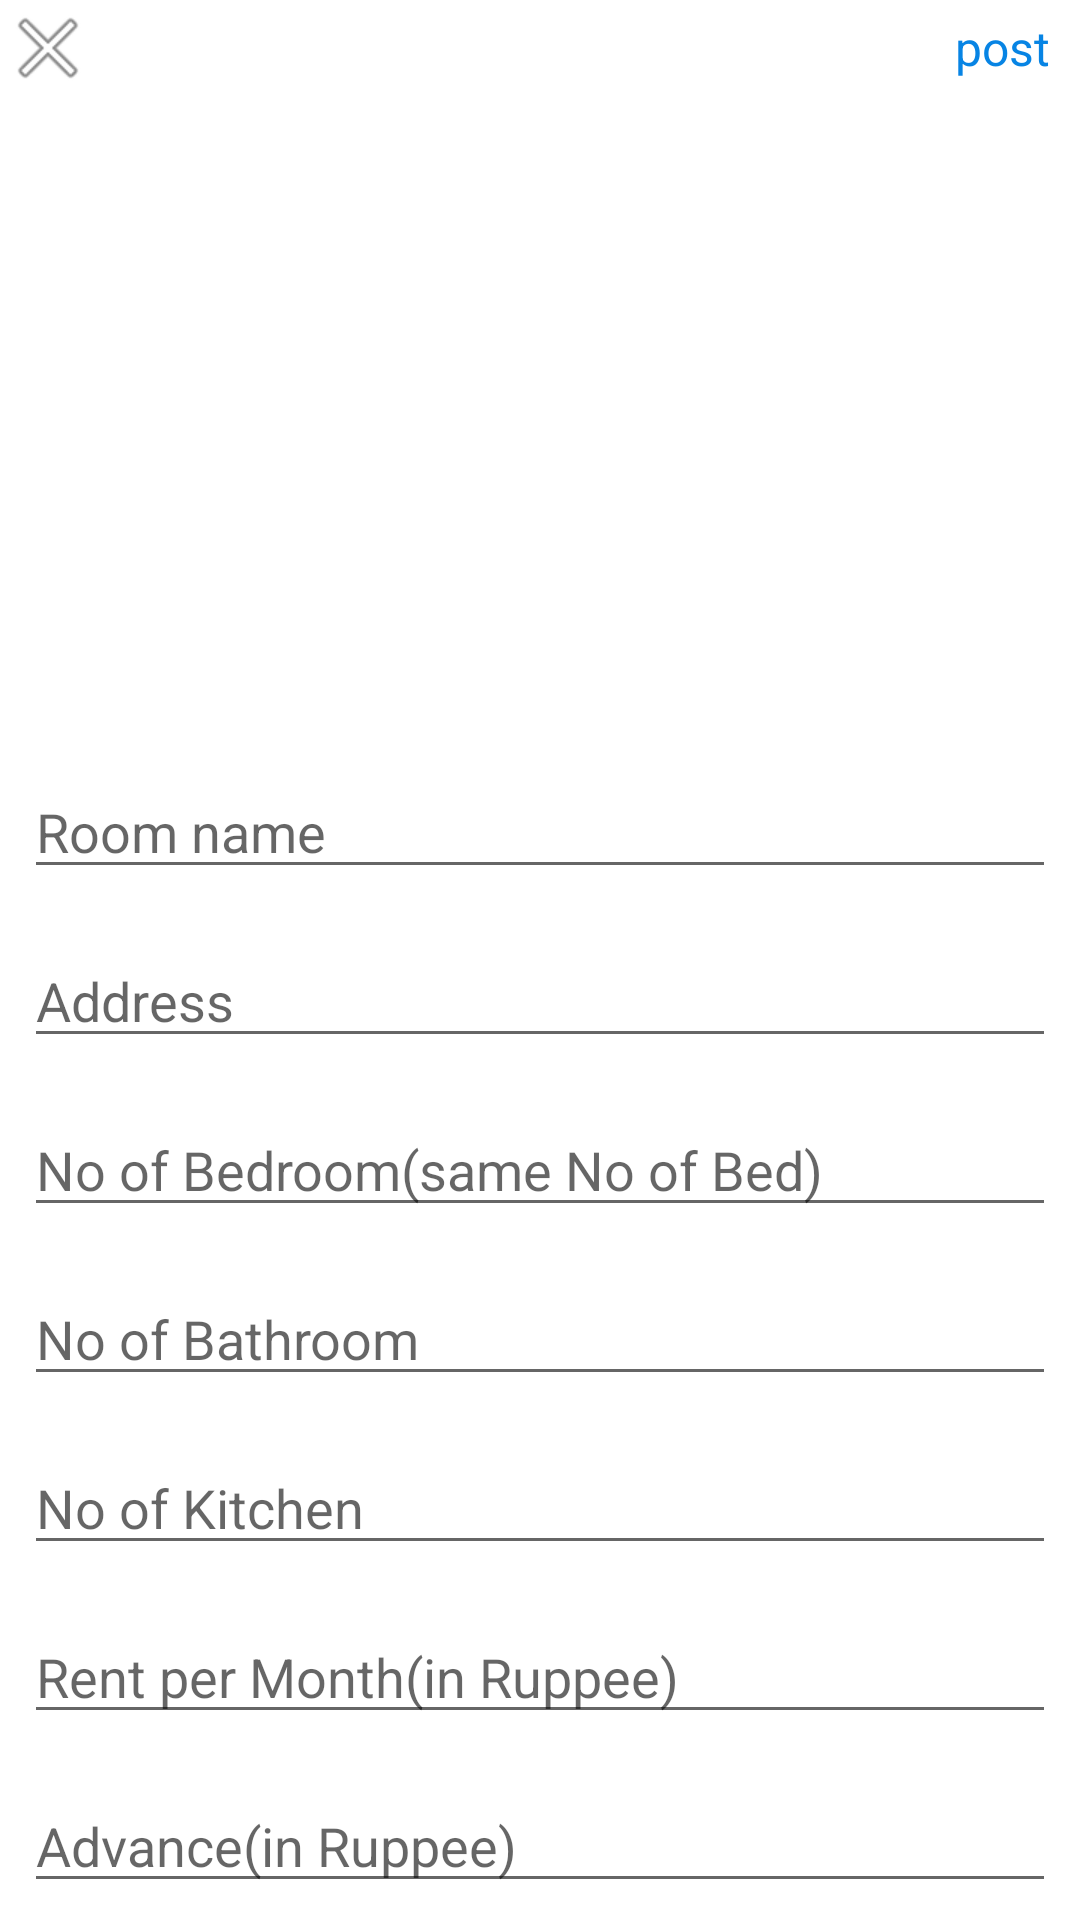

Icon click points for this 1080×1920 phone screenshot, format (x,y):
close clear cancel: (48,48)
